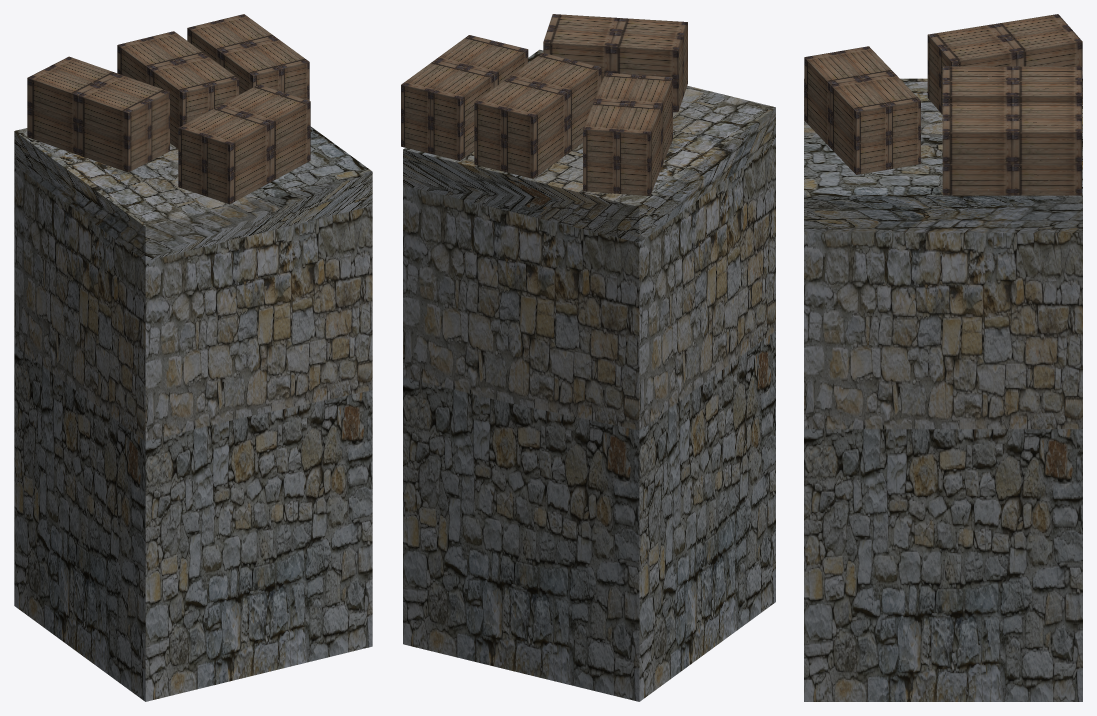
File: crate.glb
The picture shows the model from 3 angles, left to right: view 1: azimuth 30°, elevation 25°; view 2: azimuth 150°, elevation 25°; view 3: azimuth 270°, elevation 25°; orthographic projection. The views are drawn at different scales.
Visible parts, largest first — view 1: Cube.001, Cube.002, Cube.004, Cube, Cube.003; view 2: Cube.001, Cube, Cube.002, Cube.003, Cube.004; view 3: Cube.001, Cube.003, Cube.004, Cube.002, Cube.
Part boxes in pixels (<box>): Cube.001: <box>14,126,372,701</box>; Cube.002: <box>27,56,169,172</box>; Cube.004: <box>178,84,310,204</box>; Cube: <box>117,31,239,148</box>; Cube.003: <box>187,14,309,100</box>; Cube.001: <box>403,49,775,701</box>; Cube: <box>474,52,601,178</box>; Cube.002: <box>583,72,672,195</box>; Cube.003: <box>401,35,528,160</box>; Cube.004: <box>543,14,687,112</box>; Cube.001: <box>804,78,1082,701</box>; Cube.003: <box>942,103,1081,195</box>; Cube.004: <box>804,46,920,174</box>; Cube.002: <box>927,14,1082,114</box>; Cube: <box>942,66,1081,102</box>.
Bounding box in the file's own units: 1.01 × 2.26 × 1.
Materials: 5 (5 with a texture image).
